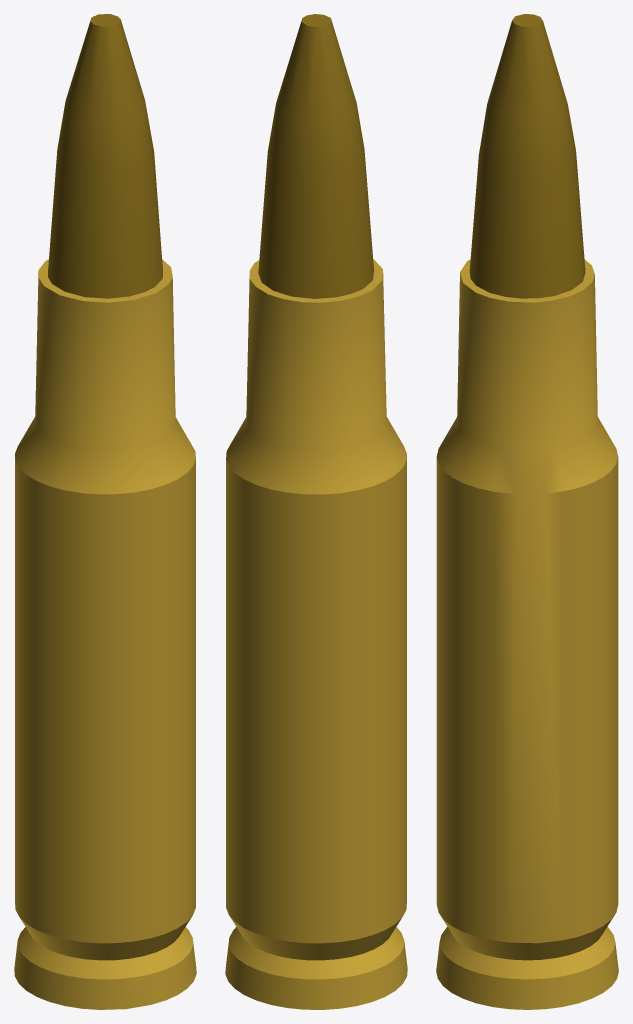
File: bullet.fbx
3 renders of one model, left to right at view 1: azimuth 30°, elevation 25°; view 2: azimuth 150°, elevation 25°; view 3: azimuth 270°, elevation 25°, orthographic.
Parts seen in each view (by area): view 1: ammo; view 2: ammo; view 3: ammo.
Part boxes in pixels (x1,y1,x2,y2): ammo: [14, 14, 196, 1009]; ammo: [225, 14, 407, 1009]; ammo: [436, 14, 618, 1009].
Size of the model in its own units: 2.18 by 12.5 by 2.18.
